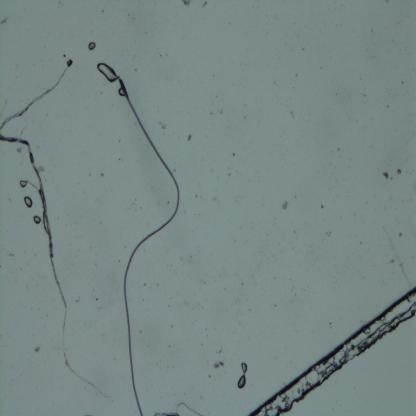Air bubble: (97, 61, 118, 83), (237, 361, 248, 392), (24, 196, 34, 209), (31, 214, 42, 224), (87, 41, 97, 52), (18, 178, 29, 188), (118, 87, 124, 97)
Background material: (378, 219, 411, 284), (155, 115, 170, 131), (212, 360, 224, 370), (0, 17, 10, 29), (30, 343, 40, 354), (290, 104, 296, 121), (280, 200, 289, 210), (132, 63, 140, 74), (382, 171, 391, 180), (182, 132, 192, 140), (394, 168, 402, 176), (318, 202, 326, 210), (229, 150, 236, 158), (183, 0, 191, 7), (66, 59, 73, 67), (397, 230, 404, 237), (99, 8, 105, 14)
Cellulose filter fibre: (0, 66, 106, 400), (172, 402, 202, 414)
Edge of slide: (248, 287, 416, 415)
Microfibre: (107, 76, 182, 415)
